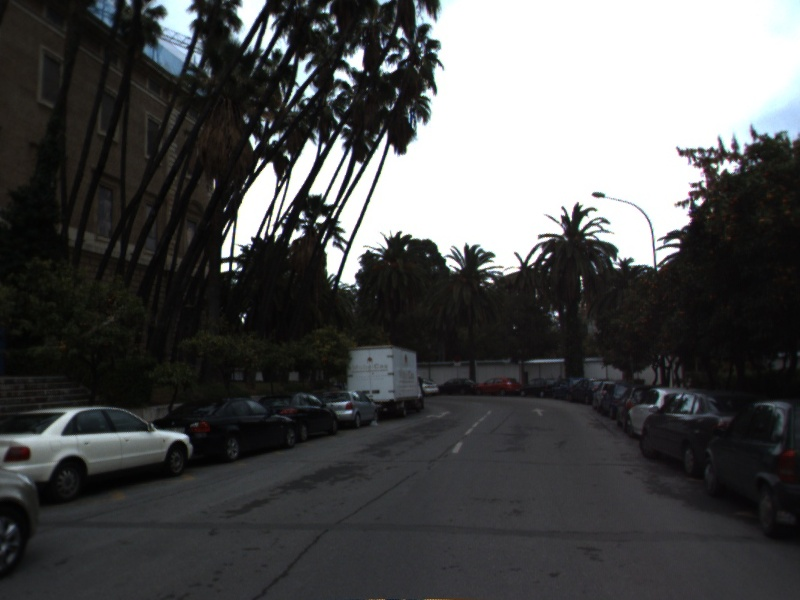STRAIGHT: (530, 406, 547, 418)
STRAIGHT_LEFT: (424, 409, 453, 420)
